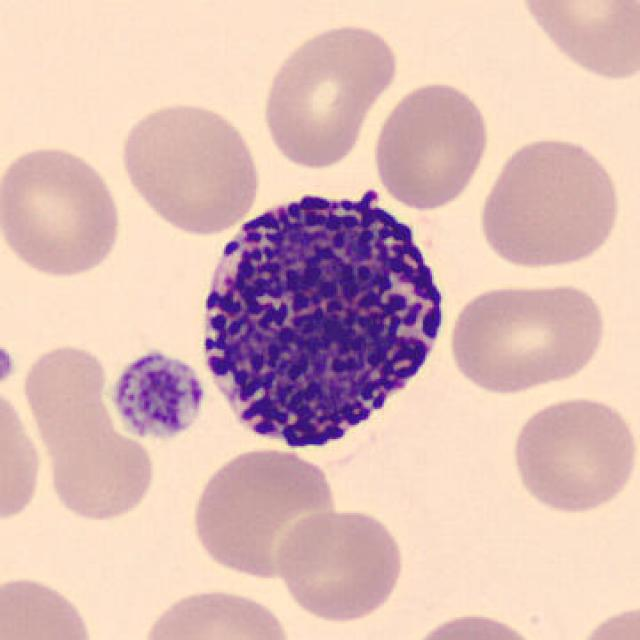Basophil: (185, 174, 459, 470)
Platelets: (107, 346, 208, 444), (0, 342, 18, 390)
RBC: (258, 18, 402, 171), (473, 132, 626, 274), (115, 97, 265, 238), (187, 443, 341, 580), (444, 275, 610, 397), (0, 140, 128, 280), (505, 392, 638, 516), (370, 77, 492, 212), (270, 504, 407, 624), (38, 420, 164, 530), (512, 0, 640, 85), (135, 583, 295, 640), (0, 569, 101, 639), (0, 383, 46, 529), (404, 608, 546, 640), (569, 599, 640, 640)
